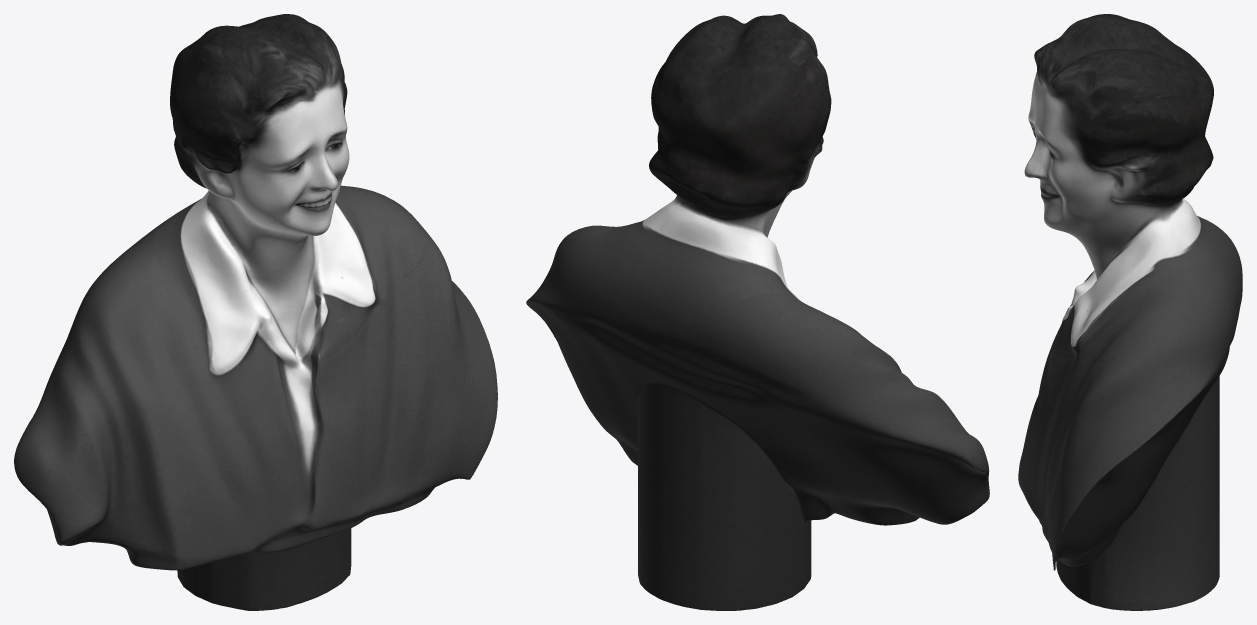
Rendered from Meshy_AI_Quiet_Grace_1024162054_texture (1).glb.
The picture shows the model from 3 angles, left to right: view 1: azimuth 30°, elevation 25°; view 2: azimuth 150°, elevation 25°; view 3: azimuth 270°, elevation 25°; orthographic projection. The views are drawn at different scales.
Bounding box in the file's own units: 1.63 × 1.9 × 0.7144.
Materials: 1 (1 with a texture image).
